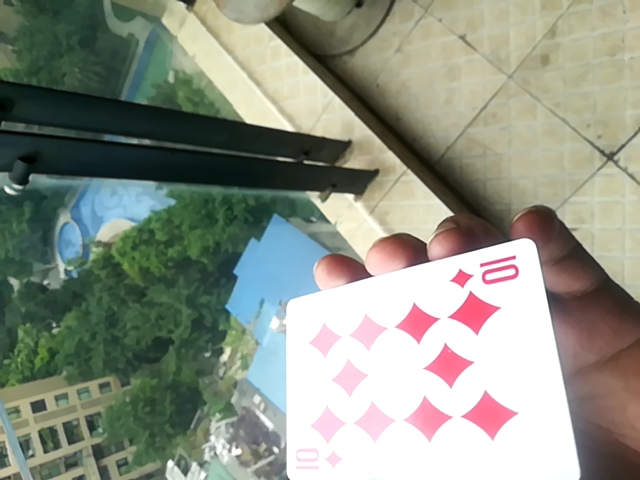fk 10: (282, 238, 577, 480)
